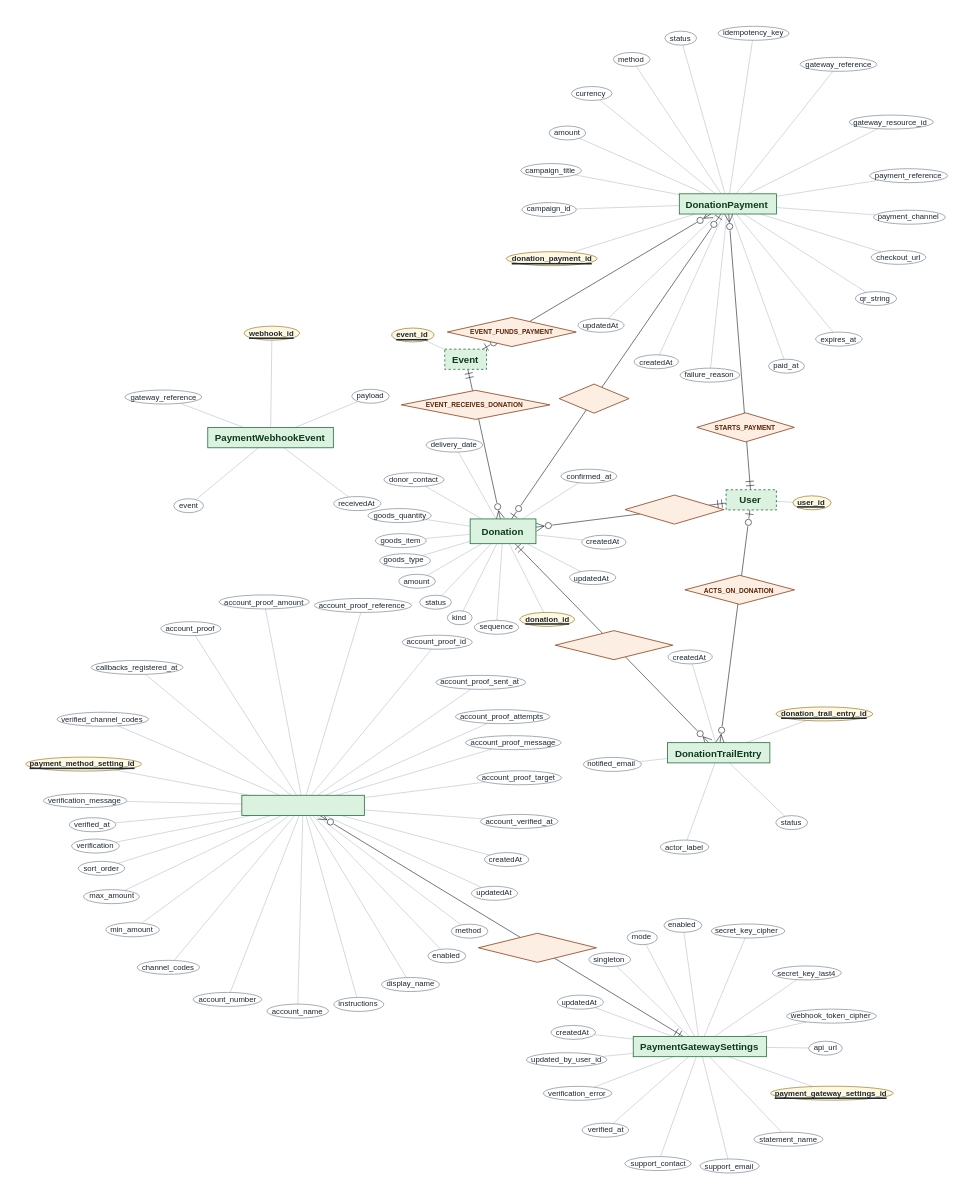
This 974x1199 diagram has some shape labels left out. Each missing label, with the centre of its shape:
CONFIGURES_METHOD: the point at 536,947
DONATION_HAS_TRAIL: the point at 613,644
MAKES_DONATION: the point at 673,509
PaymentMethodSetting: the point at 302,804
SETTLED_BY: the point at 593,398
